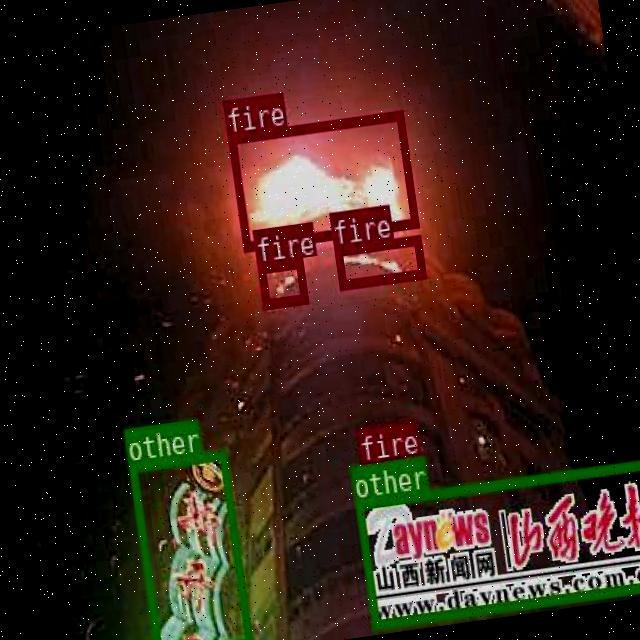fire: (226, 109, 417, 251), (332, 232, 426, 290), (256, 256, 308, 307), (360, 458, 390, 498)
